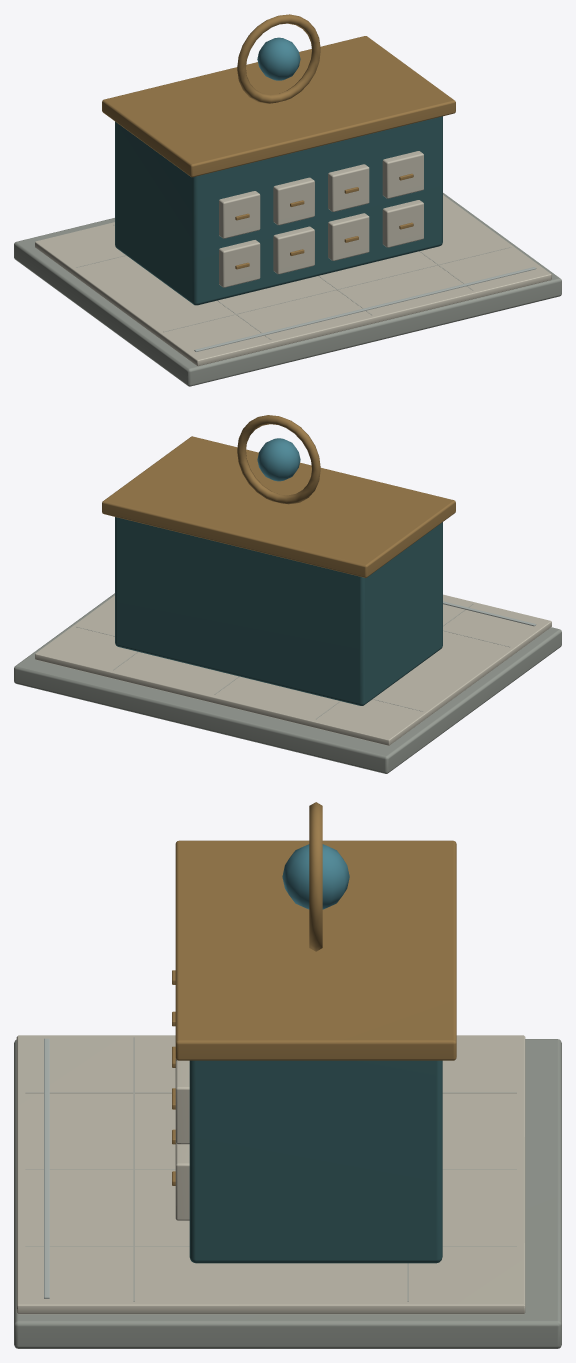
The model's file is idea-b71da145.glb.
3 renders of one model, top to bottom at view 1: azimuth 30°, elevation 25°; view 2: azimuth 150°, elevation 25°; view 3: azimuth 270°, elevation 25°, orthographic. The views are drawn at different scales.
Parts seen in each view (by area): view 1: Karmic IP & Patent Vault; view 2: Karmic IP & Patent Vault; view 3: Karmic IP & Patent Vault.
Boxes of the visible parts, x1,y1,x2,y2 form: Karmic IP & Patent Vault: (14, 14, 561, 386); Karmic IP & Patent Vault: (14, 415, 561, 773); Karmic IP & Patent Vault: (14, 802, 561, 1348).
Bounding box in the file's own units: 4.8 × 3.13 × 3.9.
